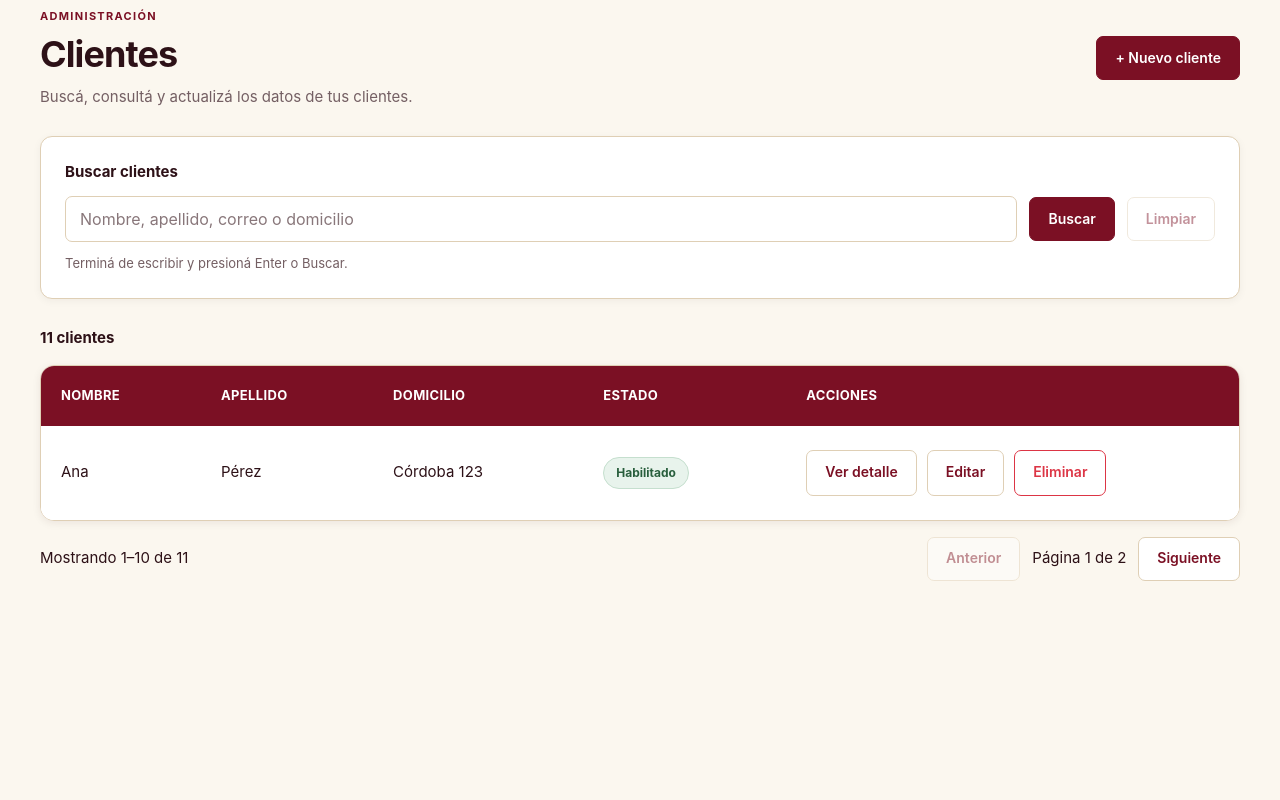
Test: búsqueda y paginación remotas de clientes › consulta otra página y reinicia a la primera al buscar; una búsqueda vacía conserva el buscador
Expected: the text "Ana" is shown, [41,426,201,520]
Click the button "Siguiente".
click(1189, 559)  # box [1138,537,1240,581]
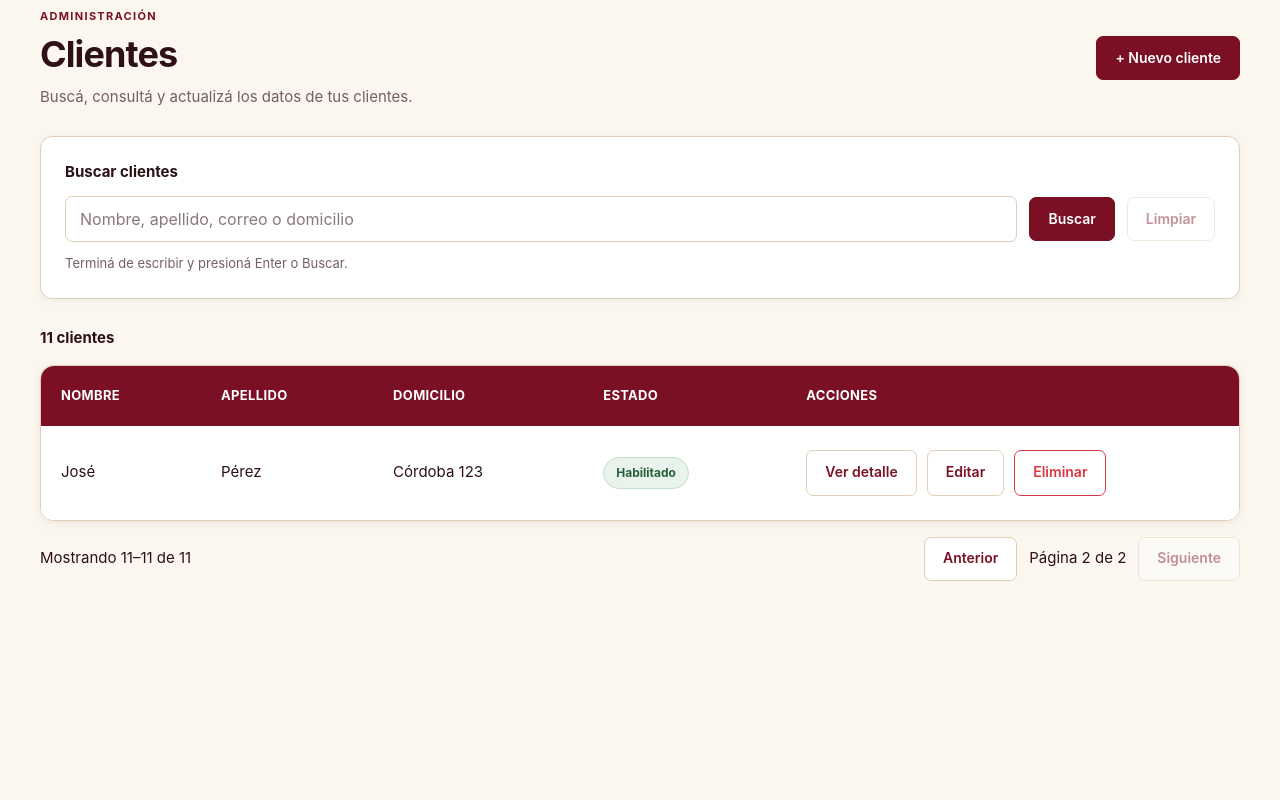
Expected: the text "José" is shown, [41,426,201,520]
Type "inexistente" into the search field labelled "Buscar clientes".
click(541, 219); type("inexistente")  # box [65,196,1017,242]
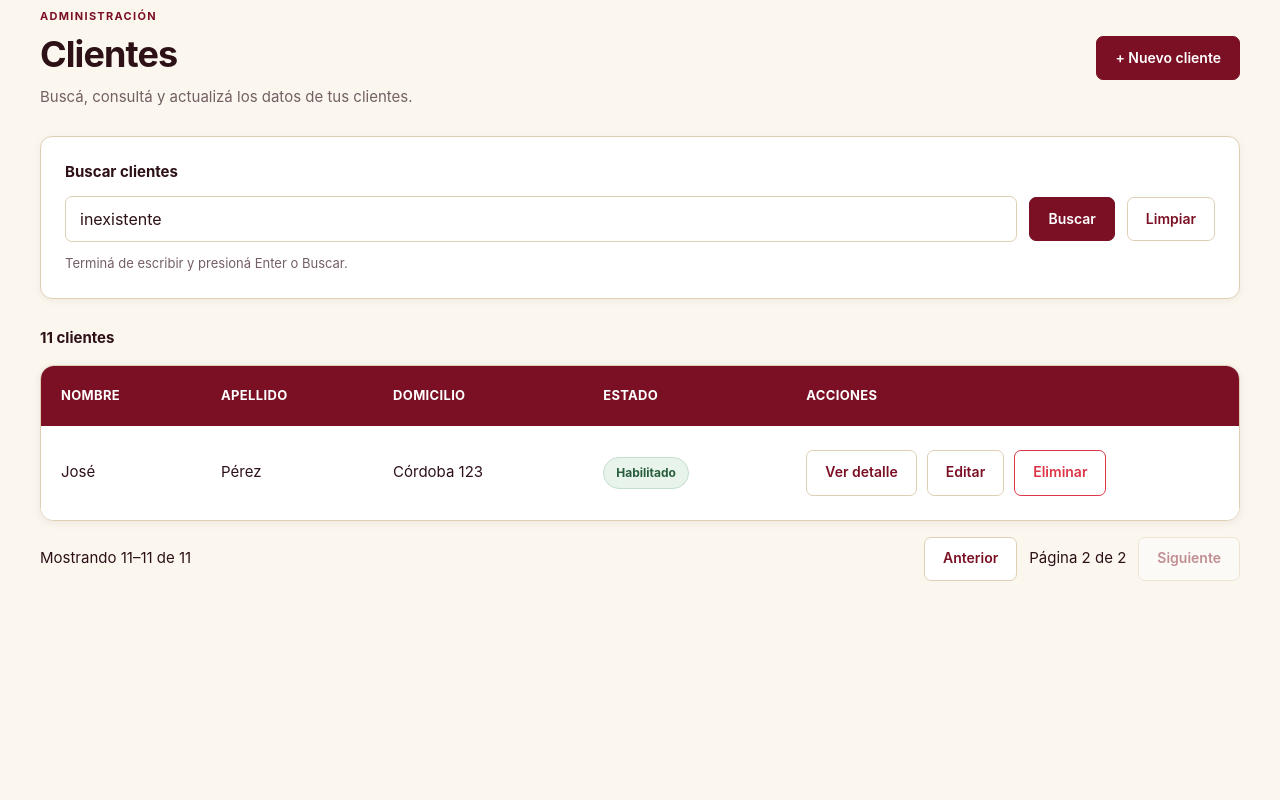
Click the button "Buscar".
click(1072, 219)  # box [1029,197,1115,241]
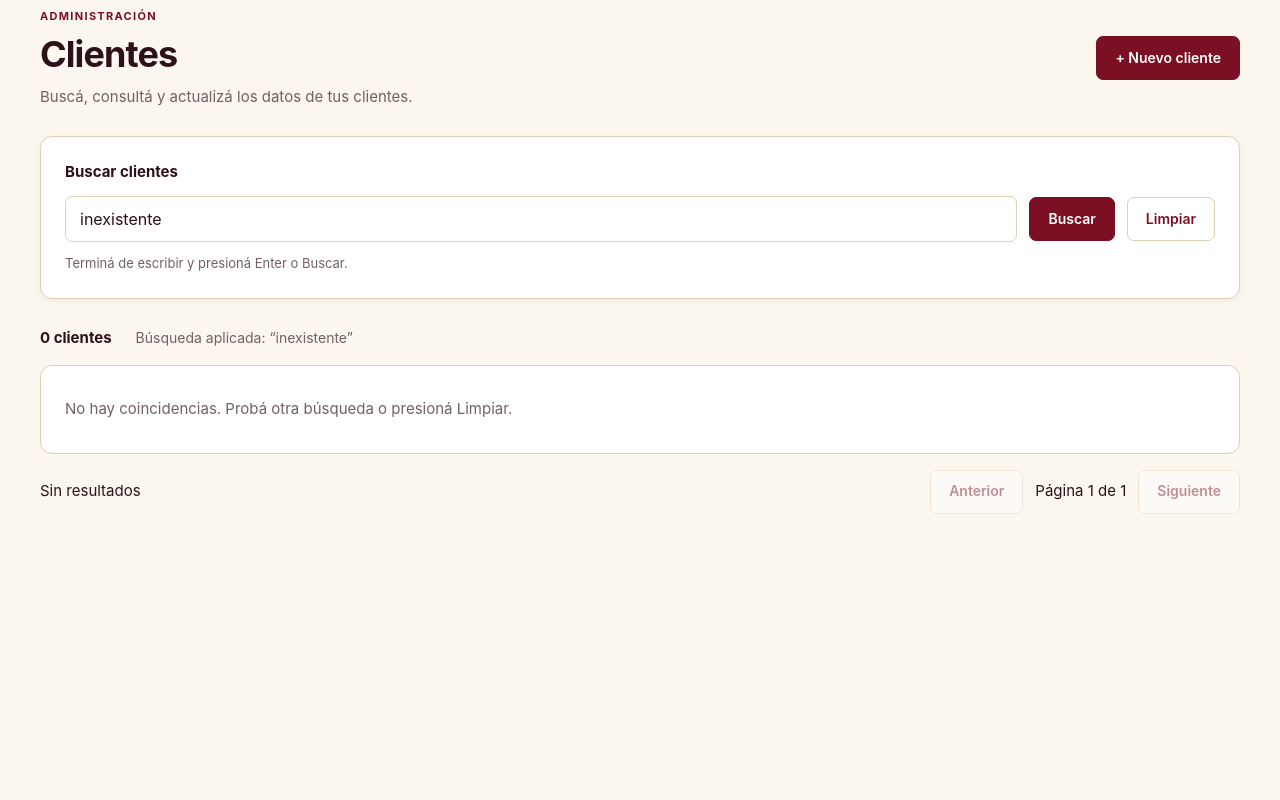
Expected: the button "Limpiar" is enabled, [1127,197,1215,241]
Expected: the text "No hay coincidencias" is shown, [65,399,512,418]
